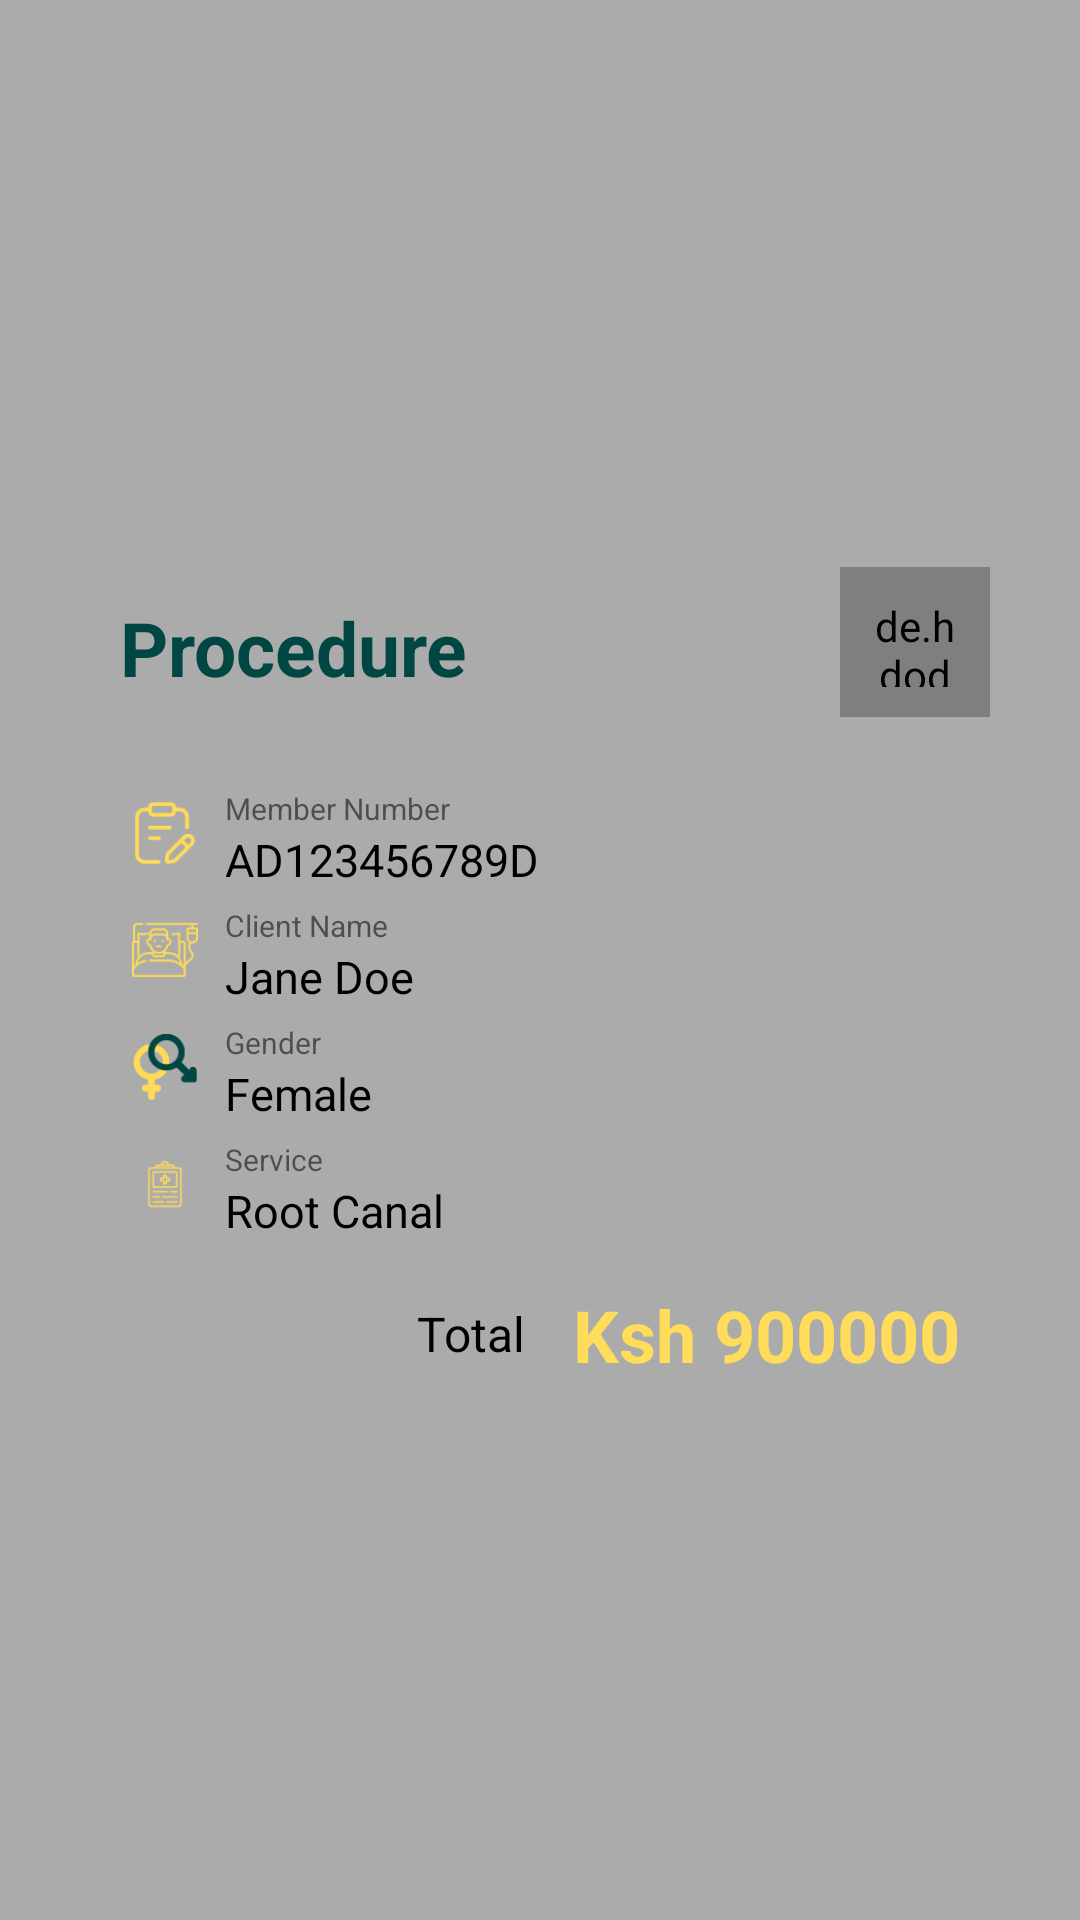

Where to tap for icons on this 1080w x 1920h app screen, as (x,y):
exam: (165,833)
hospitalisation: (165,950)
procedure: (165,1184)
